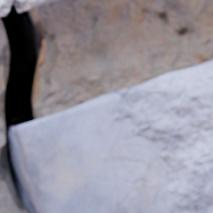brick: (10, 61, 212, 212)
broken_brick: (0, 0, 58, 14)
crack: (0, 2, 44, 210)
